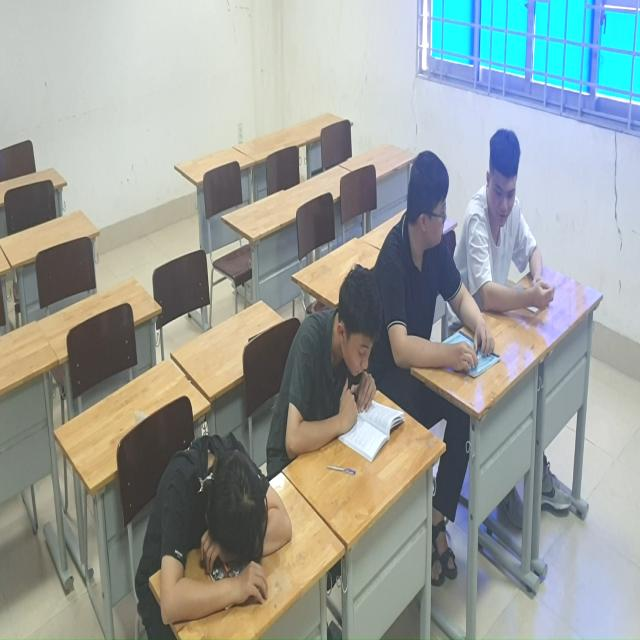read: (274, 257, 408, 469), (373, 178, 485, 425), (467, 126, 560, 329)
sleep: (123, 421, 298, 634)
